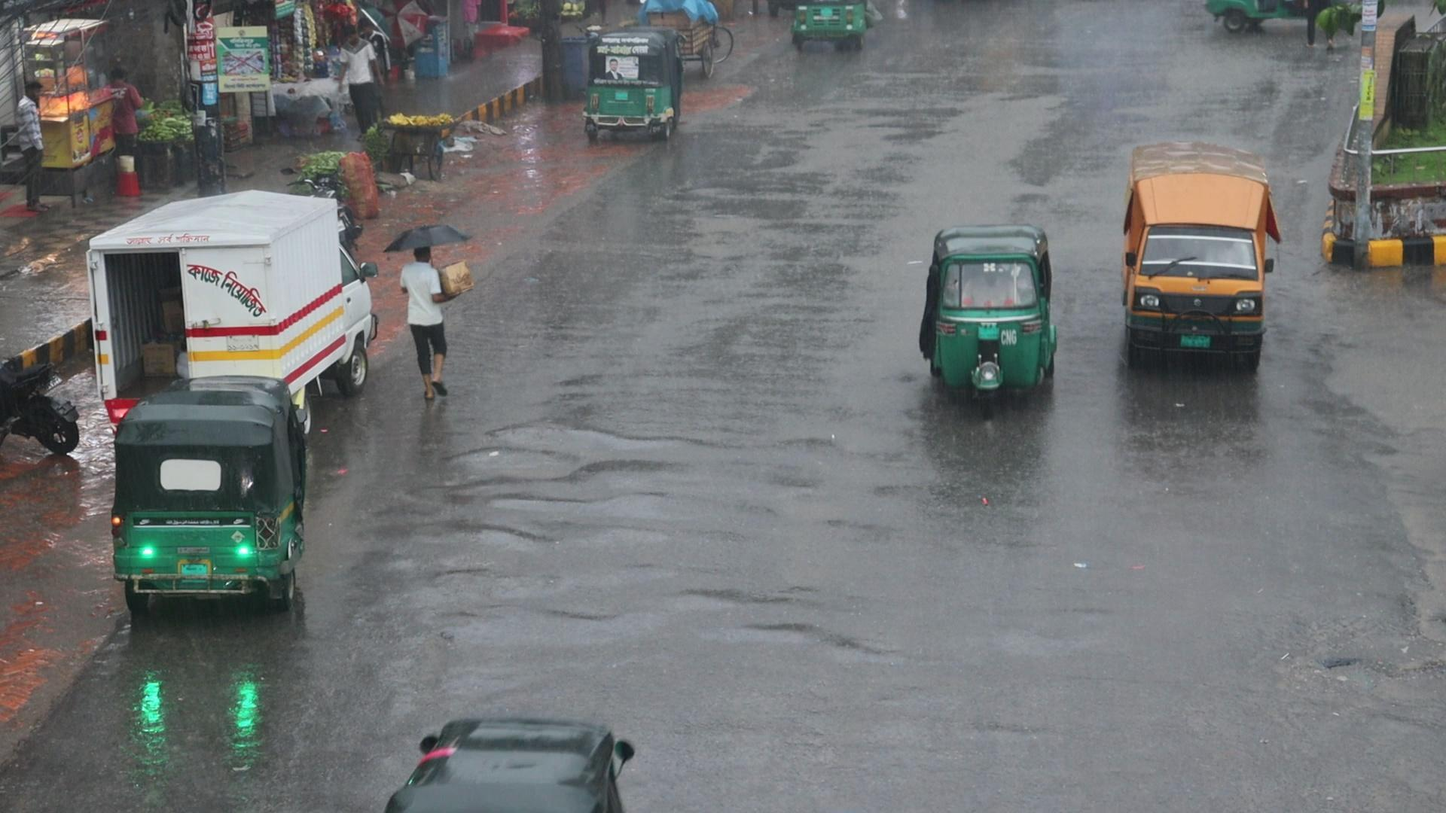Truck: (1121, 139, 1274, 373)
